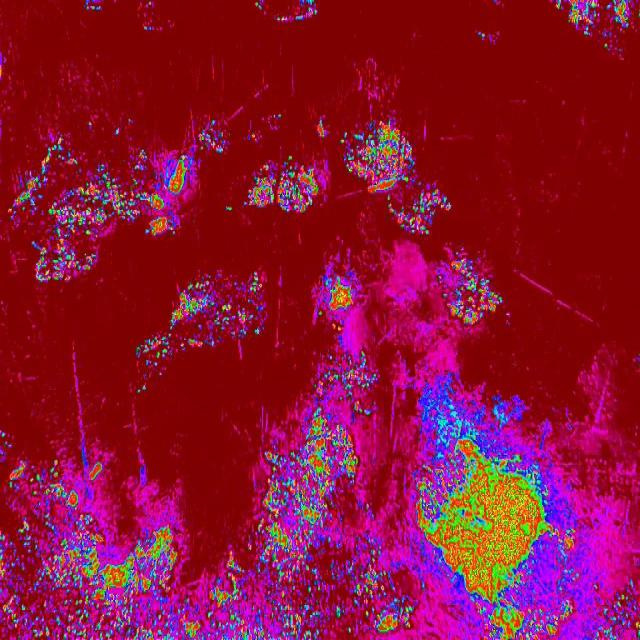fire: (408, 372, 582, 640), (0, 454, 103, 640), (180, 566, 406, 640), (18, 137, 192, 232), (264, 415, 358, 566), (343, 120, 452, 238), (104, 522, 179, 640), (170, 277, 269, 352), (434, 252, 509, 326), (242, 154, 318, 218), (318, 348, 377, 418), (312, 258, 361, 327), (561, 0, 640, 42), (31, 233, 100, 278), (134, 333, 172, 382)
